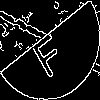F: (25, 25, 69, 81)
